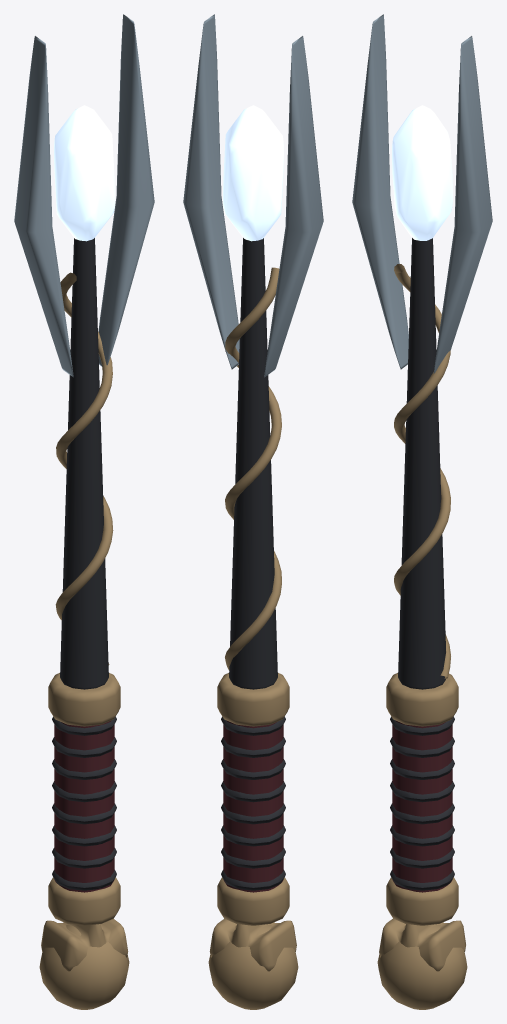
Rendered from frost-quill.glb.
3 renders of one model, left to right at view 1: azimuth 30°, elevation 25°; view 2: azimuth 150°, elevation 25°; view 3: azimuth 330°, elevation 25°, orthographic.
Visible parts, largest first — view 1: Wand taper, Wand lancet prong.001, Wand lancet prong, Faceted spirit crystal.005, Leather grip.008, Pommel.008, Seated spiral brass wire, Grip collar.017, Pointed reliquary crest.014, Grip collar.016, Binding ring.082, Binding ring.087 (+6 smaller); view 2: Wand taper, Wand lancet prong.001, Wand lancet prong, Faceted spirit crystal.005, Leather grip.008, Pommel.008, Seated spiral brass wire, Grip collar.017, Pointed reliquary crest.014, Grip collar.016, Binding ring.082, Binding ring.087 (+6 smaller); view 3: Wand taper, Wand lancet prong, Wand lancet prong.001, Faceted spirit crystal.005, Leather grip.008, Pommel.008, Seated spiral brass wire, Grip collar.017, Pointed reliquary crest.014, Grip collar.016, Binding ring.082, Binding ring.087 (+6 smaller).
Boxes of the visible parts, box(x1,y1,x2,y2) form: Wand taper: box(60, 238, 108, 689); Wand lancet prong.001: box(98, 14, 154, 366); Wand lancet prong: box(14, 36, 73, 377); Faceted spirit crystal.005: box(54, 105, 114, 241); Leather grip.008: box(54, 720, 114, 892); Pommel.008: box(39, 924, 129, 1009); Seated spiral brass wire: box(55, 272, 113, 664); Grip collar.017: box(48, 673, 120, 726); Pointed reliquary crest.014: box(41, 919, 128, 971); Grip collar.016: box(48, 877, 120, 925); Binding ring.082: box(52, 848, 116, 868); Binding ring.087: box(52, 737, 116, 757); Wand taper: box(229, 238, 277, 689); Wand lancet prong.001: box(183, 14, 239, 369); Wand lancet prong: box(264, 36, 323, 377); Faceted spirit crystal.005: box(223, 105, 283, 241); Leather grip.008: box(223, 720, 283, 892); Pommel.008: box(208, 924, 298, 1009); Seated spiral brass wire: box(225, 267, 281, 670); Grip collar.017: box(217, 673, 289, 726); Pointed reliquary crest.014: box(209, 918, 296, 971); Grip collar.016: box(217, 877, 289, 925); Binding ring.082: box(221, 848, 285, 868); Binding ring.087: box(221, 737, 285, 757); Wand taper: box(398, 238, 445, 689); Wand lancet prong: box(352, 14, 408, 369); Wand lancet prong.001: box(433, 36, 492, 373); Faceted spirit crystal.005: box(392, 105, 452, 240); Leather grip.008: box(392, 720, 452, 892); Pommel.008: box(377, 924, 467, 1009); Seated spiral brass wire: box(394, 264, 450, 678); Grip collar.017: box(386, 673, 458, 726); Pointed reliquary crest.014: box(379, 918, 465, 971); Grip collar.016: box(386, 877, 458, 925); Binding ring.082: box(390, 848, 454, 868); Binding ring.087: box(390, 737, 454, 757).
Bounding box in the file's own units: 0.108 × 0.785 × 0.066.
